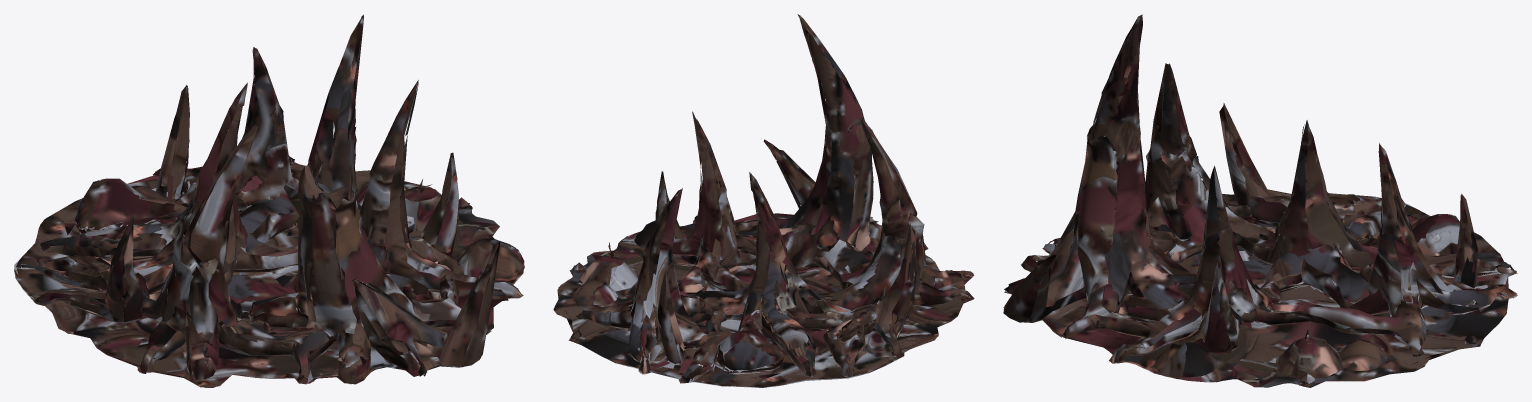
The model's file is Espinos.fbx.
3 views of the same model, side by side, from view 1: azimuth 30°, elevation 25°; view 2: azimuth 150°, elevation 25°; view 3: azimuth 270°, elevation 25° (orthographic). The views are drawn at different scales.
Visible parts, largest first — view 1: Espinos; view 2: Espinos; view 3: Espinos.
Part boxes in pixels (bbox=[...]): Espinos: bbox=[14, 14, 524, 387]; Espinos: bbox=[553, 14, 974, 387]; Espinos: bbox=[1003, 14, 1517, 387].
Bounding box in the file's own units: 92.15 × 61.87 × 101.
